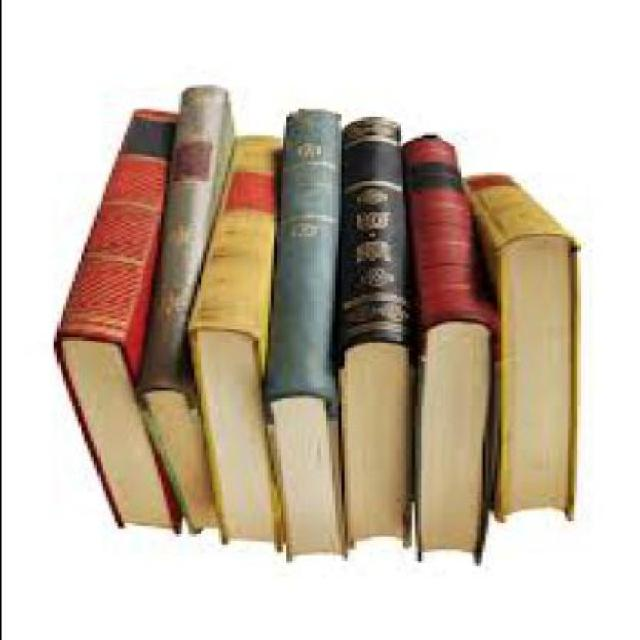PAPER: (58, 112, 184, 533), (138, 90, 236, 539), (187, 138, 288, 556), (395, 138, 493, 565), (462, 178, 582, 525), (266, 112, 352, 566), (331, 119, 417, 553)
